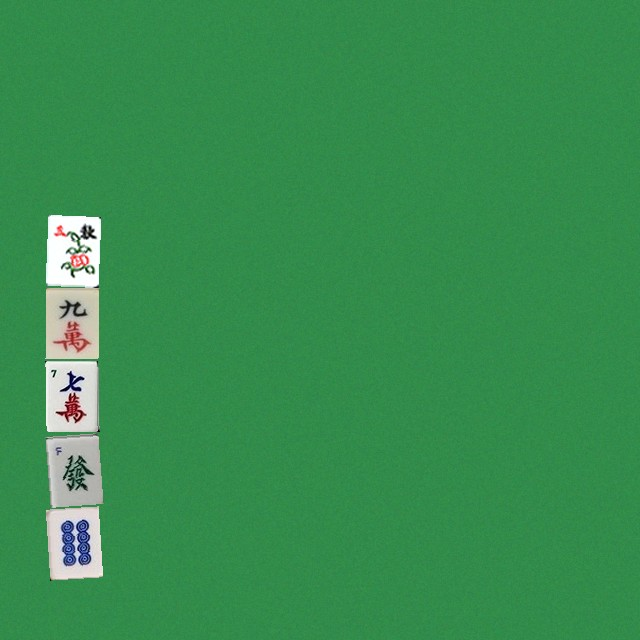tile: (45, 214, 98, 285), (45, 287, 98, 358), (45, 360, 98, 431), (45, 433, 98, 504), (45, 506, 98, 577)
